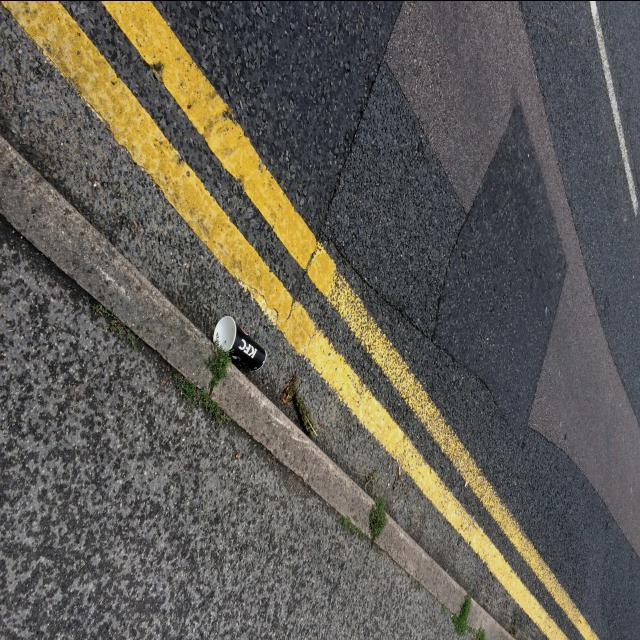Cigarette: (398, 464, 400, 474)
Paper cup: (213, 315, 266, 370)
